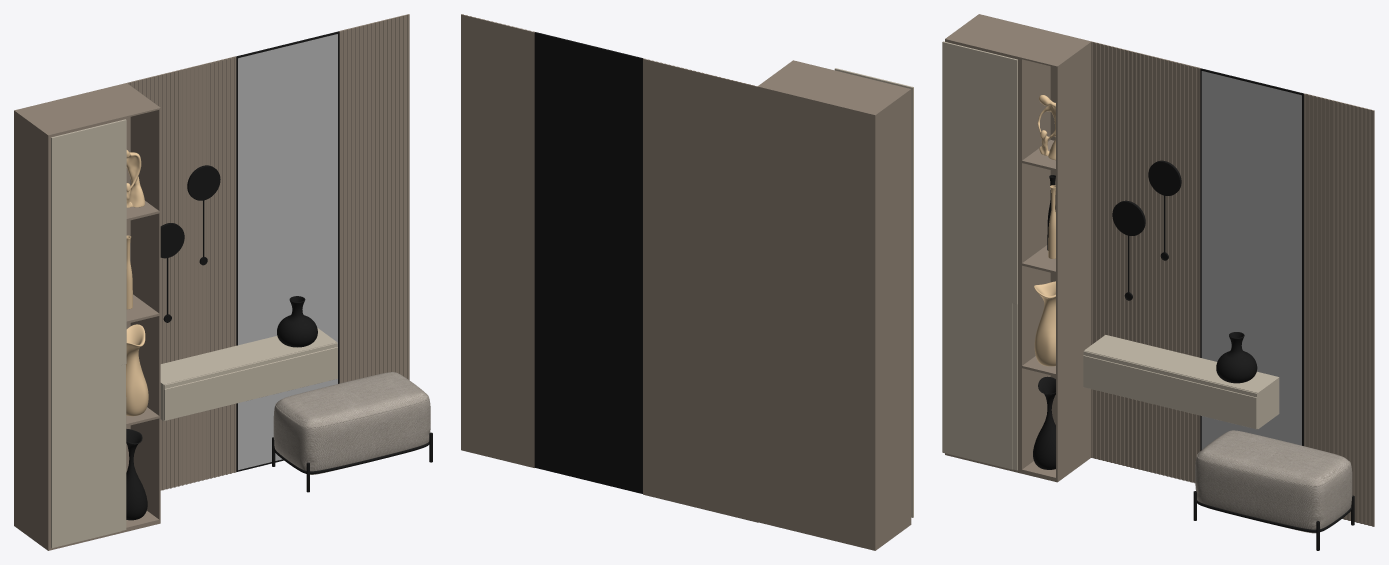
Rendered from 93f52c28-f4d8-4b35-b90c-c938b429cbb5.glb.
3 views of the same model, side by side, from view 1: azimuth 30°, elevation 25°; view 2: azimuth 150°, elevation 25°; view 3: azimuth 330°, elevation 25° (orthographic). The views are drawn at different scales.
Parts seen in each view (by area): view 1: Box1578961264, Object815, Box1578961249, Object814, Object800, Box1578961260, Box1578961266, Box1578961248, Line7560, Line7554, Line7559, Cylinder635 (+3 smaller); view 2: Box1578961249, Object814, Box1578961264, Object800, Object815; view 3: Object814, Box1578961264, Object815, Box1578961249, Object800, Box1578961260, Box1578961266, Box1578961248, Line7560, Line7559, Line7554, Cylinder635 (+3 smaller).
Boxes of the visible parts, <box> form: Box1578961264: <box>236,31,339,471</box>; Object815: <box>51,119,126,548</box>; Box1578961249: <box>14,83,160,550</box>; Object814: <box>127,56,236,490</box>; Object800: <box>339,14,409,383</box>; Box1578961260: <box>273,372,430,474</box>; Box1578961266: <box>164,343,337,420</box>; Box1578961248: <box>160,328,337,420</box>; Line7560: <box>126,324,148,416</box>; Line7554: <box>277,296,317,347</box>; Line7559: <box>126,429,147,520</box>; Cylinder635: <box>187,165,220,200</box>; Box1578961249: <box>757,60,911,550</box>; Object814: <box>643,58,758,522</box>; Box1578961264: <box>534,32,642,493</box>; Object800: <box>461,14,534,467</box>; Object815: <box>834,68,913,517</box>; Object814: <box>1091,41,1200,483</box>; Box1578961264: <box>1200,68,1303,450</box>; Object815: <box>942,41,1017,470</box>; Box1578961249: <box>945,14,1091,482</box>; Object800: <box>1304,93,1374,526</box>; Box1578961260: <box>1195,430,1352,533</box>; Box1578961266: <box>1083,351,1257,429</box>; Box1578961248: <box>1084,335,1279,429</box>; Line7560: <box>1034,281,1055,366</box>; Line7559: <box>1033,376,1055,469</box>; Line7554: <box>1216,332,1257,383</box>; Cylinder635: <box>1148,160,1181,195</box>.
Bounding box in the file's own units: 2.67 × 2.69 × 0.4945.
12 materials, 1 textured.
